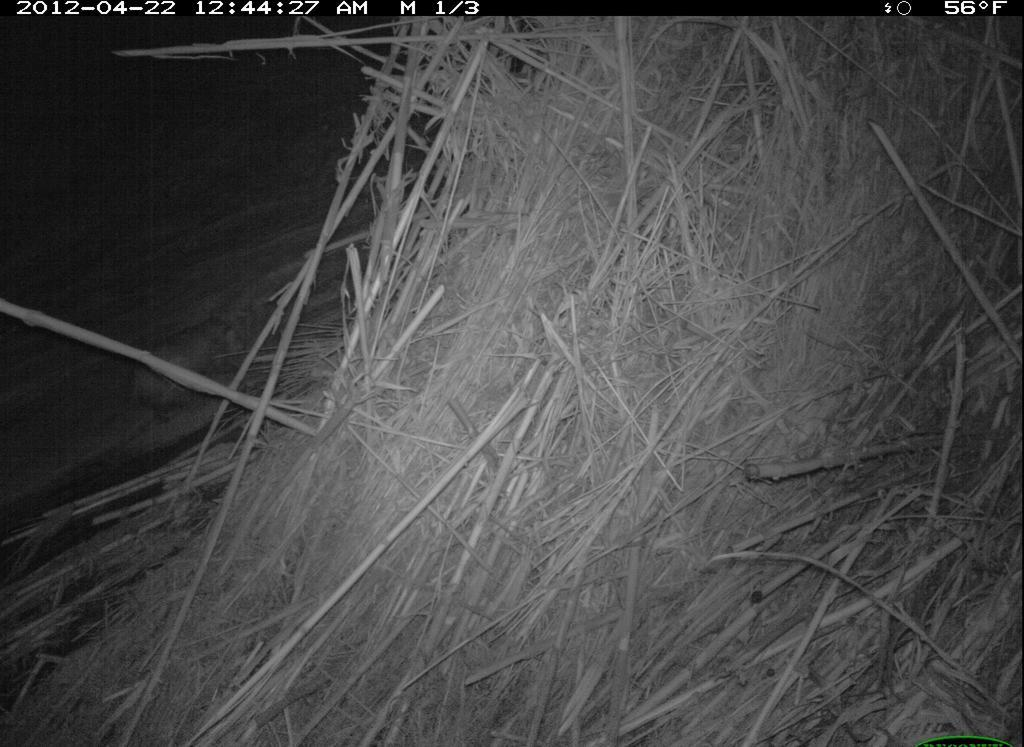opossum: (90, 306, 250, 431)
